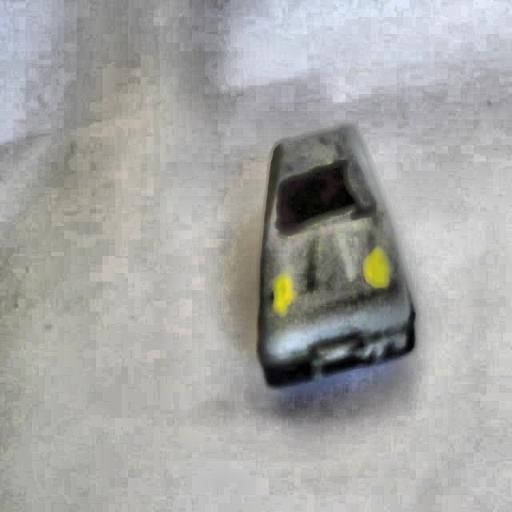normal_car: (251, 120, 419, 390)
